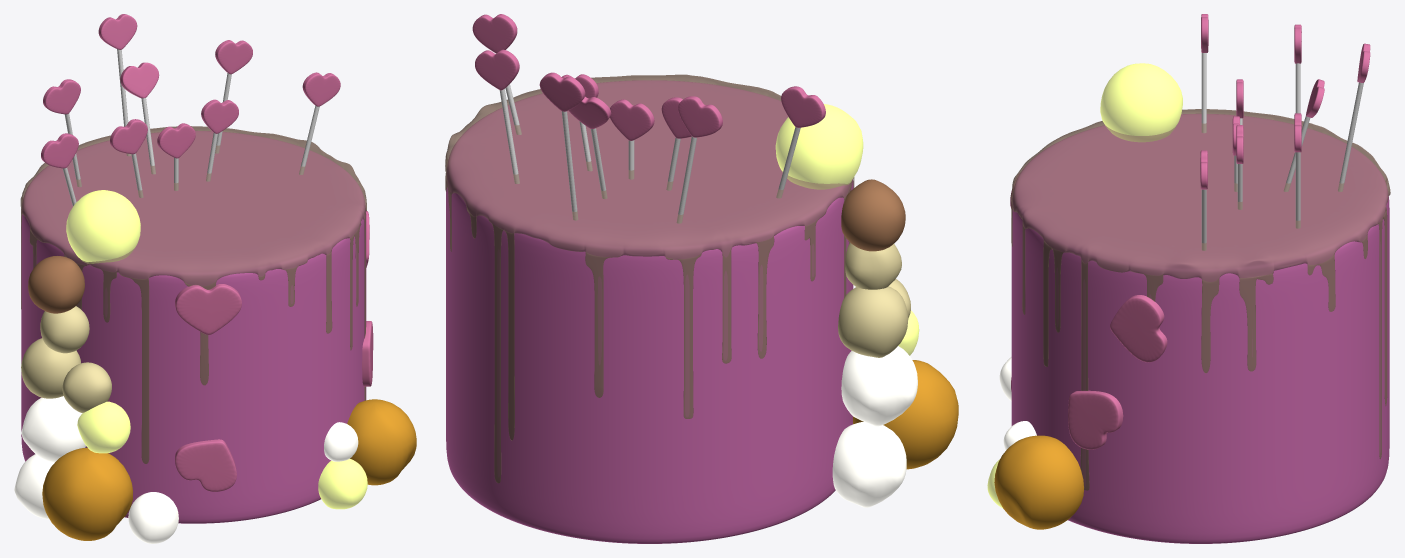
File: Cake_Layer_1_Pink_Topper1_Hearts_BrownDrip.glb
The picture shows the model from 3 angles, left to right: view 1: azimuth 30°, elevation 25°; view 2: azimuth 150°, elevation 25°; view 3: azimuth 270°, elevation 25°; orthographic projection. The views are drawn at different scales.
Parts seen in each view (by area): view 1: Circle, Circle.001, Sphere, Sphere.015, Sphere.026, Sphere.002, Sphere.006, Star.003, Star.002, Sphere.005, Sphere.003, Sphere.001 (+15 smaller); view 2: Circle, Circle.001, Sphere.015, Sphere.013, Sphere.002, Sphere, Sphere.005, Sphere.006, Sphere.010, Star.006, Star.005, Star.009 (+6 smaller); view 3: Circle, Circle.001, Sphere.026, Sphere.015, Star.001, Star.004, Cylinder.049, Sphere.027.
Boxes of the visible parts, x1,y1,x2,y2 form: Circle: (21,131,366,523); Circle.001: (20,126,366,463); Sphere: (42,448,132,540); Sphere.015: (66,190,140,263); Sphere.026: (347,399,416,485); Sphere.002: (21,396,85,462); Sphere.006: (28,256,84,313); Star.003: (175,284,241,334); Star.002: (175,439,236,491); Sphere.005: (21,338,80,398); Sphere.003: (77,401,130,453); Sphere.001: (128,492,178,543); Circle: (446,80,853,543); Circle.001: (445,74,854,483); Sphere.015: (775,104,863,189); Sphere.013: (832,421,906,507); Sphere.002: (841,346,917,426); Sphere: (853,360,958,469); Sphere.005: (838,286,908,357); Sphere.006: (841,179,905,251); Sphere.010: (845,242,901,289); Star.006: (678,96,722,137); Star.005: (781,86,825,127); Star.009: (475,49,519,90); Circle: (1011,114,1389,543); Circle.001: (1010,109,1390,490); Sphere.026: (994,435,1083,529); Sphere.015: (1100,63,1182,141); Star.001: (1110,295,1167,362); Star.004: (1068,390,1123,449); Cylinder.049: (1338,82,1363,191); Sphere.027: (1003,421,1036,450).
Bounding box in the file's own units: 0.1763 × 0.1867 × 0.159.
